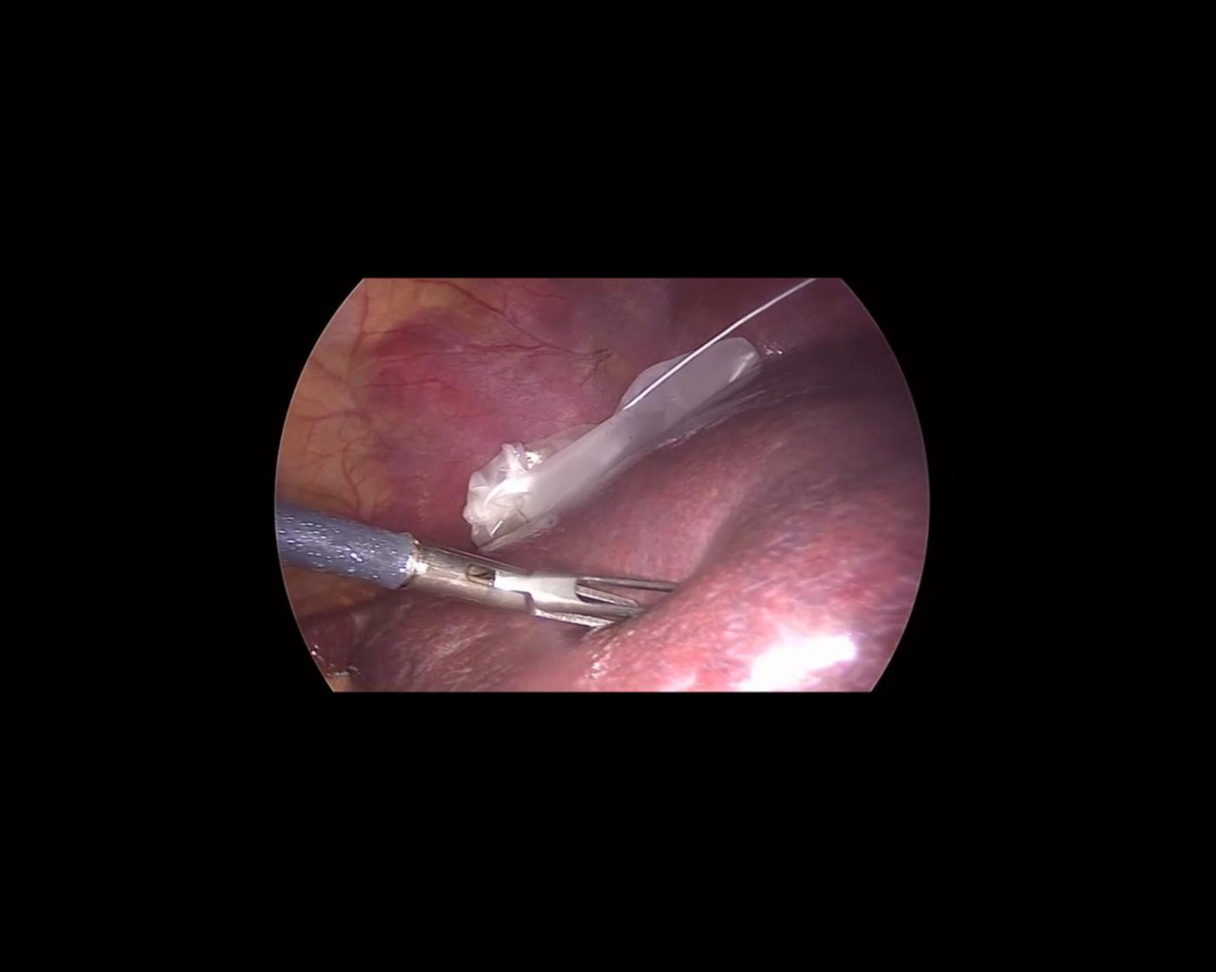Bag: (438, 244, 837, 555)
Forceps: (260, 498, 679, 649)
Liver: (276, 317, 1013, 888)
